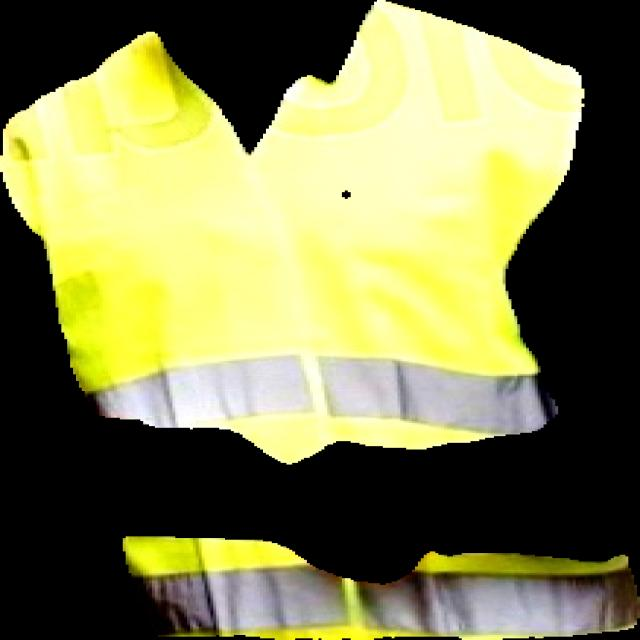Colete: (0, 0, 584, 464)
